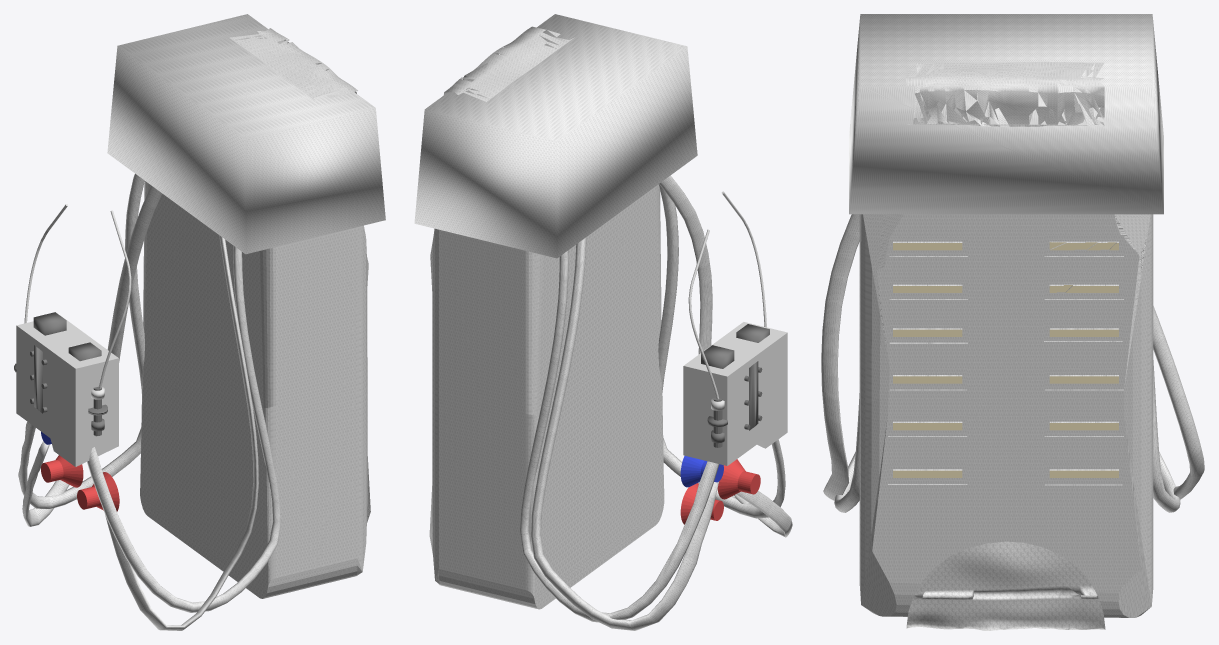
The model's file is bag.glb.
The picture shows the model from 3 angles, left to right: view 1: azimuth 30°, elevation 25°; view 2: azimuth 150°, elevation 25°; view 3: azimuth 270°, elevation 25°; orthographic projection. The views are drawn at different scales.
Parts seen in each view (by area): view 1: Cube.001, Cube.002, Cube.008, Cylinder.004, Cylinder.009, Cylinder.003, Plane.004, Cylinder.008, Cylinder.006, Cylinder.007, Cylinder.025, Plane.003; view 2: Cube.001, Cube.002, Cube.008, Cylinder.008, Cylinder.003, Plane.004, Cylinder.004, Cylinder.009, Cylinder.007, Cylinder.005, Plane.003, Cylinder.006; view 3: Cube.001, Cube.002, Circle.001, Plane.004, Cylinder.009, Cylinder.008, Cylinder.003, Cylinder.004.
Part boxes in pixels (x1,y1,x2,y2): Cube.001: (140, 181, 370, 598); Cube.002: (107, 14, 385, 254); Cube.008: (14, 204, 118, 466); Cylinder.004: (87, 246, 281, 612); Cylinder.009: (105, 235, 258, 630); Cylinder.003: (18, 173, 144, 508); Plane.004: (229, 28, 357, 100); Cylinder.008: (22, 185, 162, 526); Cylinder.006: (41, 455, 83, 487); Cylinder.007: (77, 472, 119, 511); Cylinder.025: (96, 210, 131, 436); Plane.003: (34, 345, 42, 413); Cube.001: (429, 184, 664, 609); Cube.002: (414, 14, 697, 258); Cube.008: (683, 229, 787, 465); Cylinder.008: (531, 237, 718, 630); Cylinder.003: (520, 250, 719, 622); Plane.004: (444, 26, 574, 101); Cylinder.004: (658, 184, 785, 518); Cylinder.009: (659, 175, 792, 537); Cylinder.007: (717, 459, 760, 499); Cylinder.005: (680, 456, 723, 487); Plane.003: (749, 361, 758, 430); Cylinder.006: (680, 483, 723, 524); Cube.001: (859, 214, 1153, 617); Cube.002: (849, 14, 1163, 214); Circle.001: (906, 541, 1105, 630); Plane.004: (906, 61, 1104, 126); Cylinder.009: (821, 214, 859, 500); Cylinder.008: (1153, 306, 1204, 499); Cylinder.003: (1153, 360, 1180, 512); Cylinder.004: (834, 393, 859, 512).
Size of the model in its own units: 3.65 by 6.13 by 3.86.
Materials: 6 (1 with a texture image).
